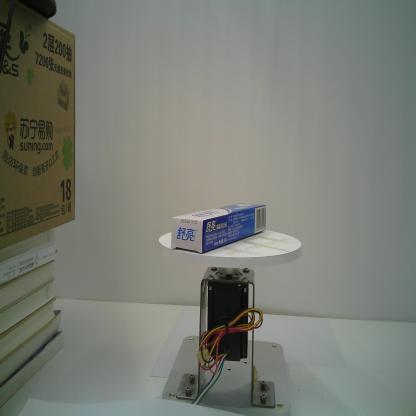Personal Hygiene: (169, 200, 267, 255)
